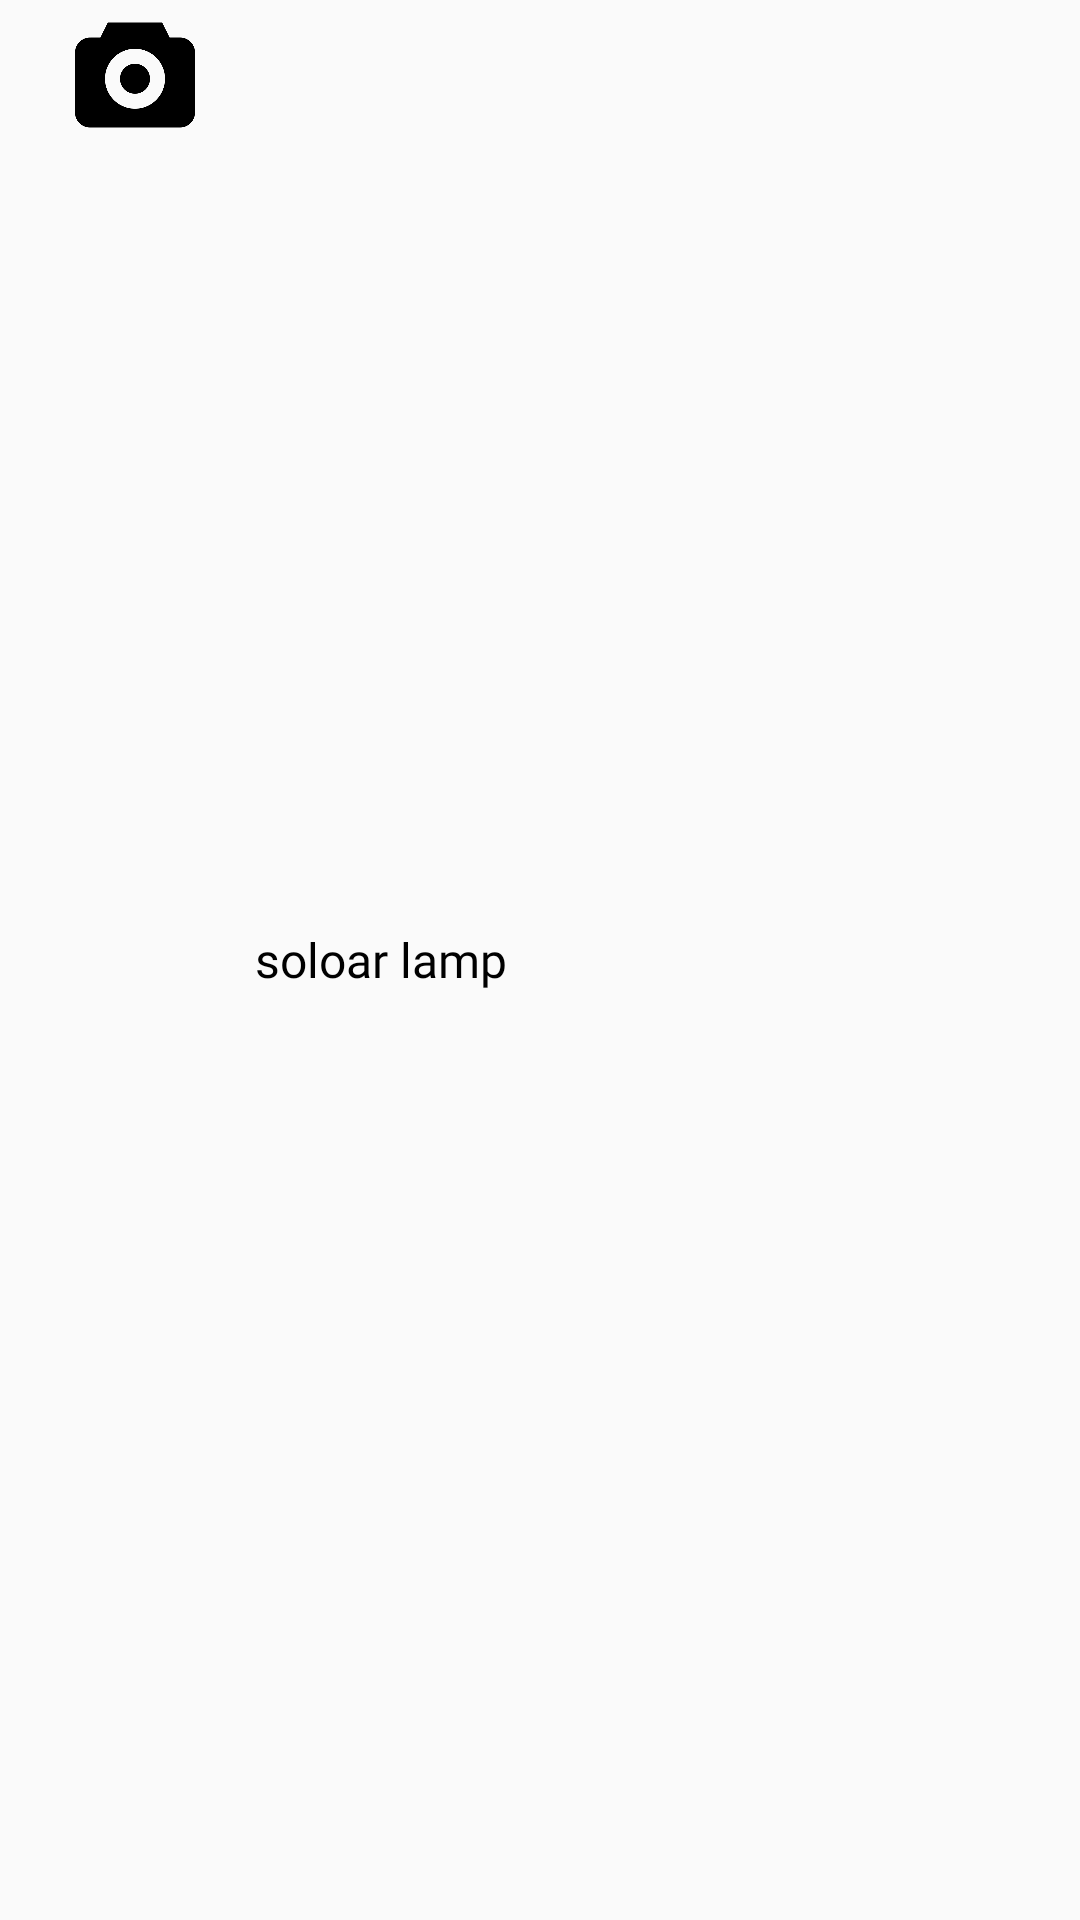

Where to tap for icons on this 1080px×1920px app screen, as [x,y]:
camera: [135,75]
